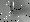person: (8, 4, 14, 17)
